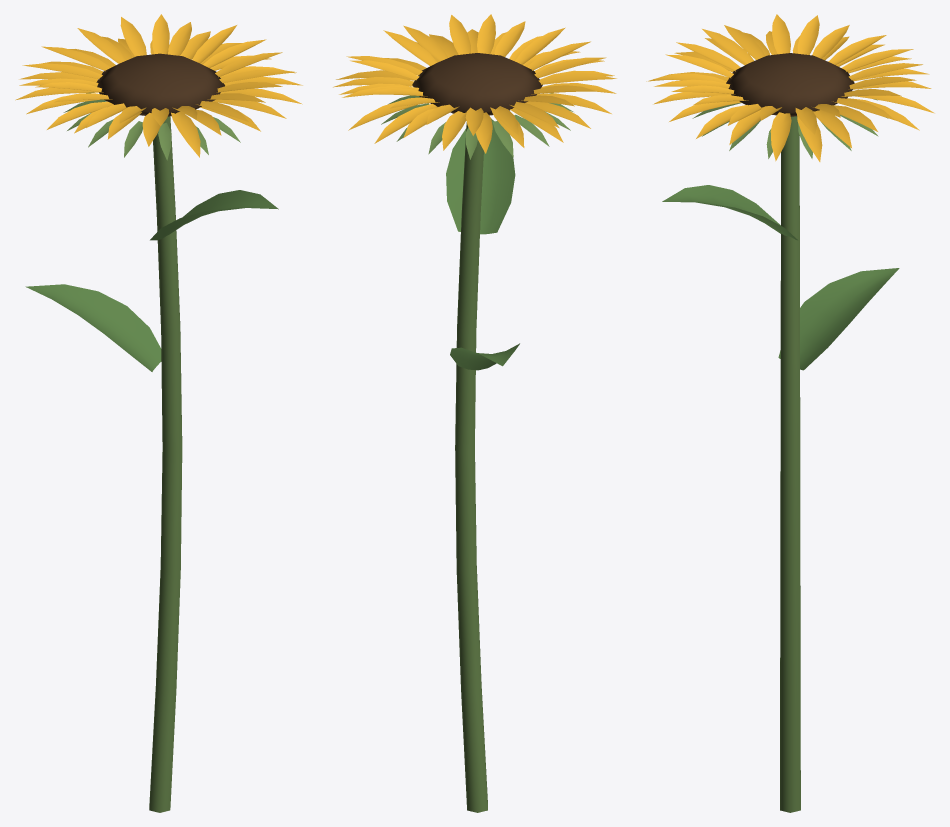
The model's file is sunflower.glb.
3 views of the same model, side by side, from view 1: azimuth 30°, elevation 25°; view 2: azimuth 150°, elevation 25°; view 3: azimuth 270°, elevation 25° (orthographic).
Visible parts, largest first — view 1: sunflower; view 2: sunflower; view 3: sunflower.
Boxes of the visible parts, bbox=[...] form: sunflower: bbox=[15, 14, 302, 812]; sunflower: bbox=[333, 14, 616, 812]; sunflower: bbox=[646, 14, 934, 812].
Size of the model in its own units: 0.1208 by 0.337 by 0.1194.
